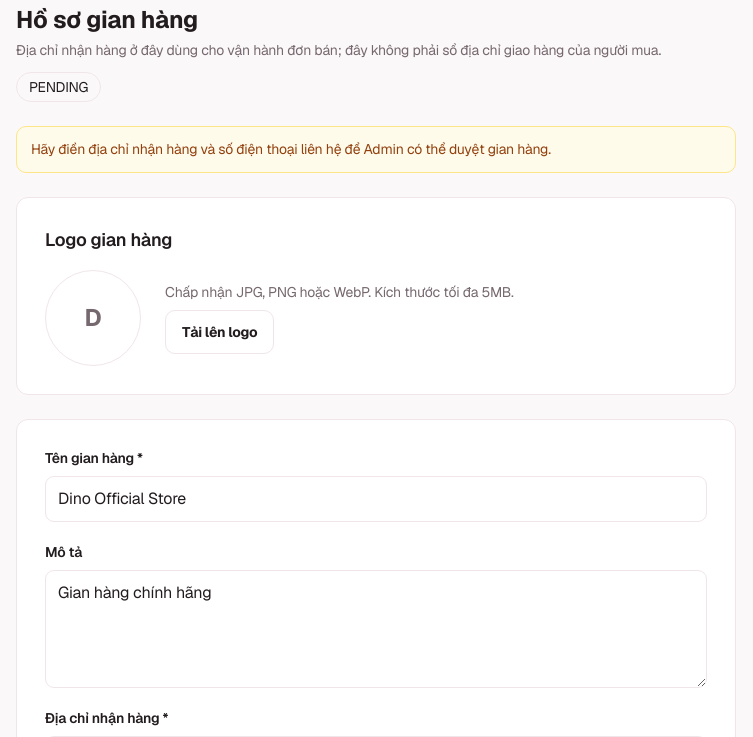
SellerShopScreen UI › allows saving updated shop details
Replace the text in the field showing "Dino Official Store" with "Dino Premium Store" at point(376, 499), box [45,476,707,522]
(page scrolled)
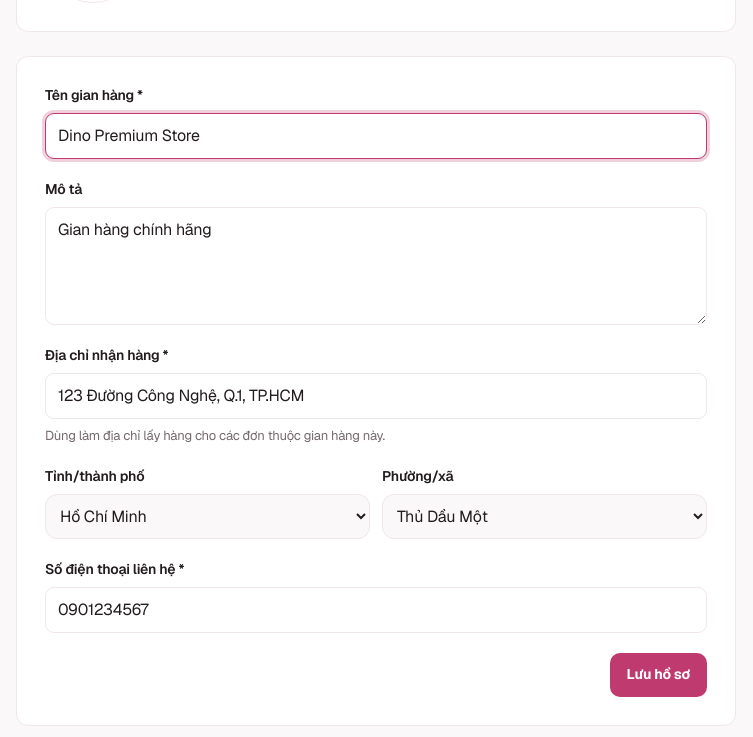
Click the button "Lưu hồ sơ" at point(658, 674), box [610,652,707,696]
(page scrolled)
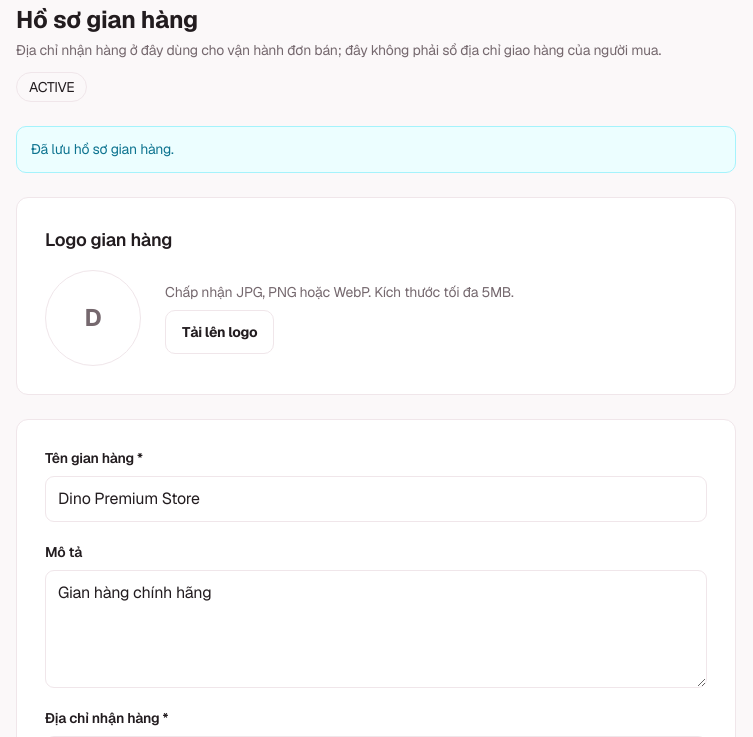
Now the text "Đã lưu hồ sơ gian hàng." is shown, box [16,126,736,173]
